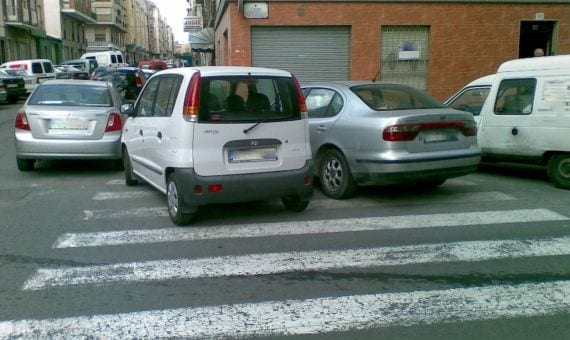car: (124, 66, 315, 224), (298, 79, 479, 200), (9, 79, 125, 168), (92, 66, 143, 98), (3, 65, 40, 88), (55, 65, 94, 79), (61, 59, 102, 72)
